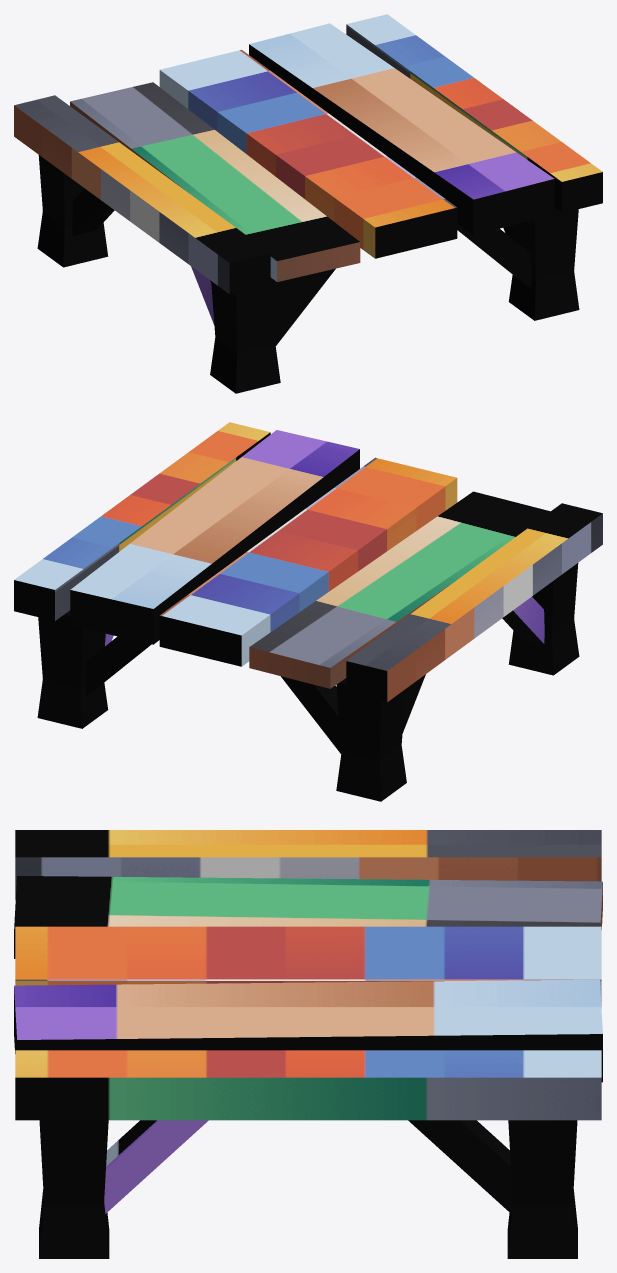
Rendered from SM_Ponton_A.fbx.
3 views of the same model, one above another, from view 1: azimuth 30°, elevation 25°; view 2: azimuth 150°, elevation 25°; view 3: azimuth 270°, elevation 25° (orthographic). The views are drawn at different scales.
Parts seen in each view (by area): view 1: structure-platform; view 2: structure-platform; view 3: structure-platform.
Part boxes in pixels (box(x1,y1,x2,y2)): structure-platform: box(14, 14, 602, 393); structure-platform: box(14, 422, 602, 801); structure-platform: box(14, 830, 602, 1258).
Size of the model in its own units: 0.2103 by 0.0781 by 0.2113.
